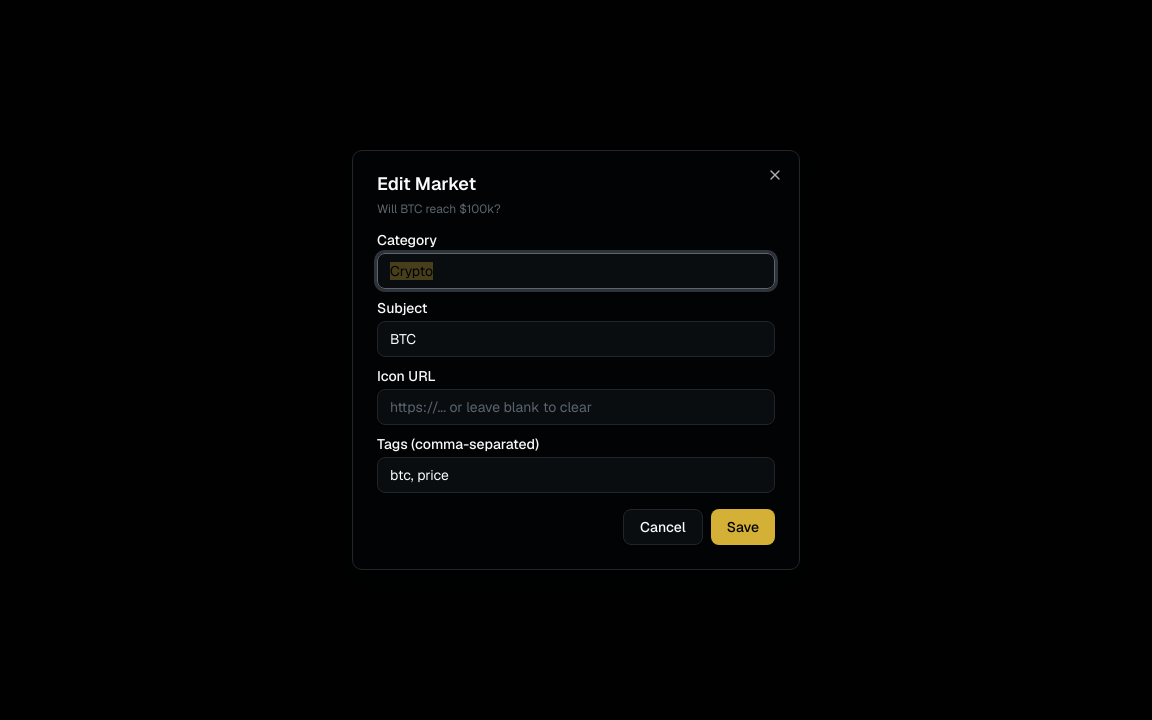
Test: EditMarketModal › shows error on API failure
Type "SOL" into the field labelled "Subject". click: (576, 339)
box: [377,321,775,357]
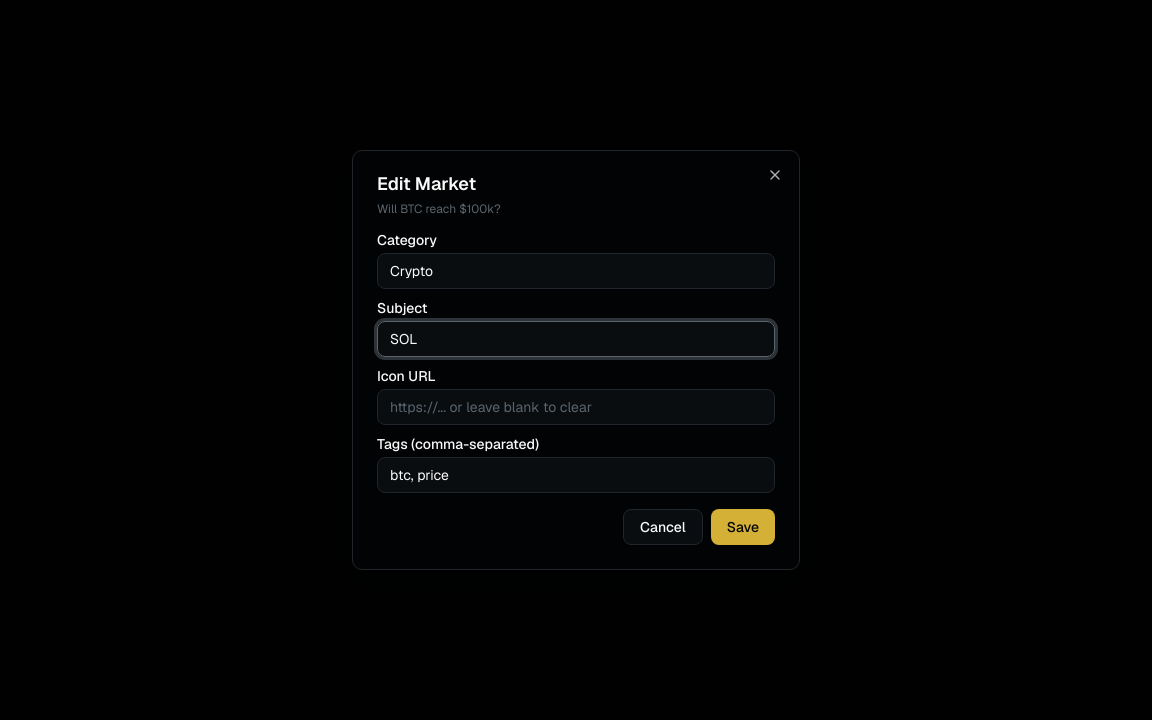
Click the button "Save". click: (743, 527)
box: [711,509,775,545]
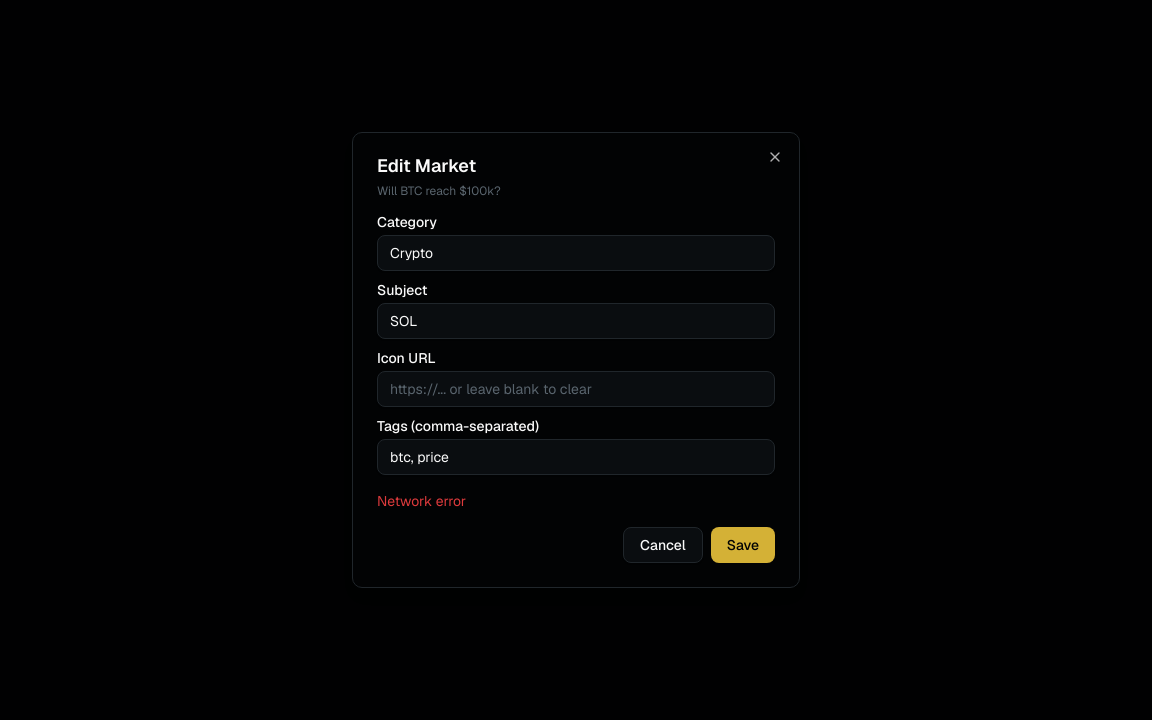
Result: the text "Network error" is shown at [377,492,466,510]
